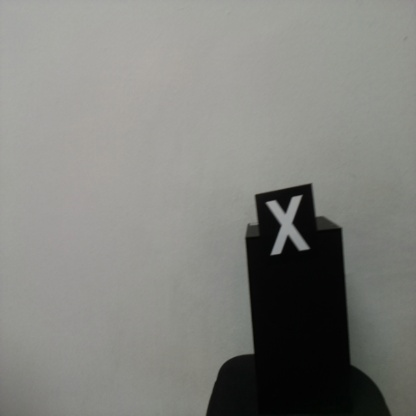id_13: (255, 193, 320, 269)
